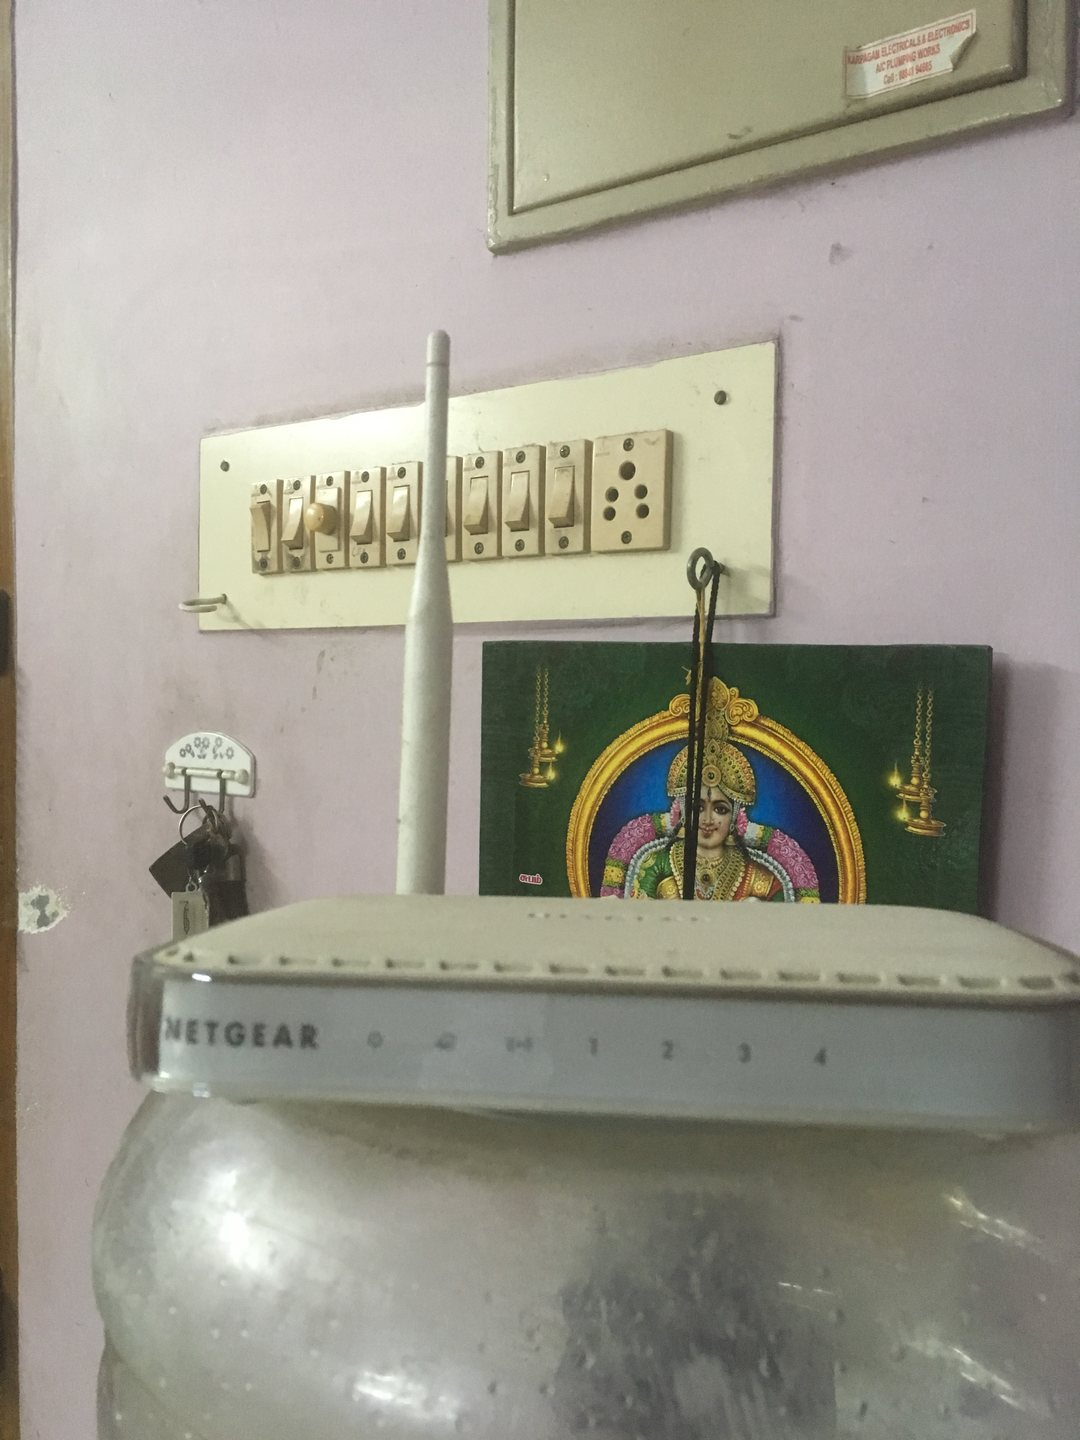NETGEAR: (152, 1009, 326, 1062)
modem: (118, 951, 1079, 1138)
